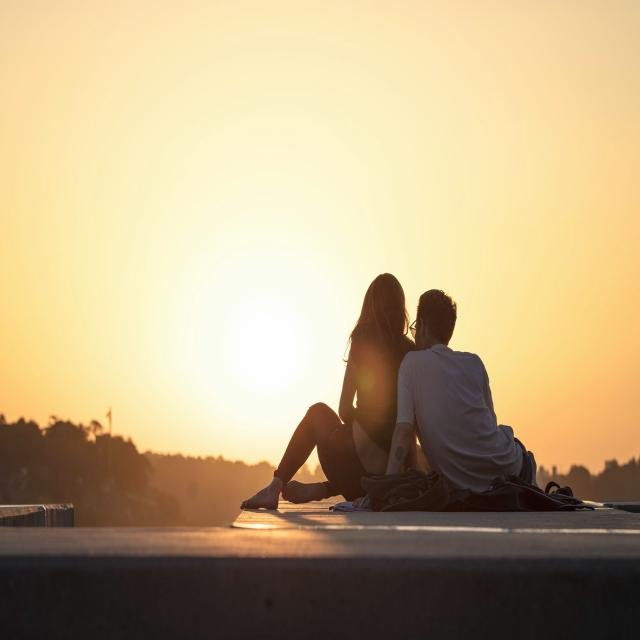adult: (240, 272, 416, 510), (386, 286, 537, 498)
